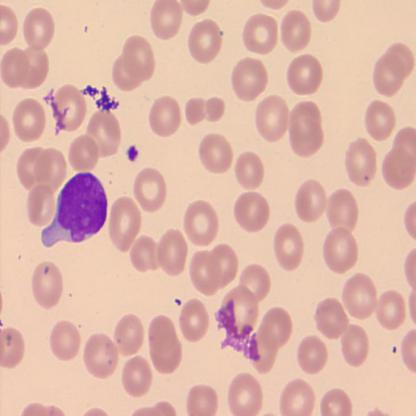Blast: (40, 168, 109, 255)
